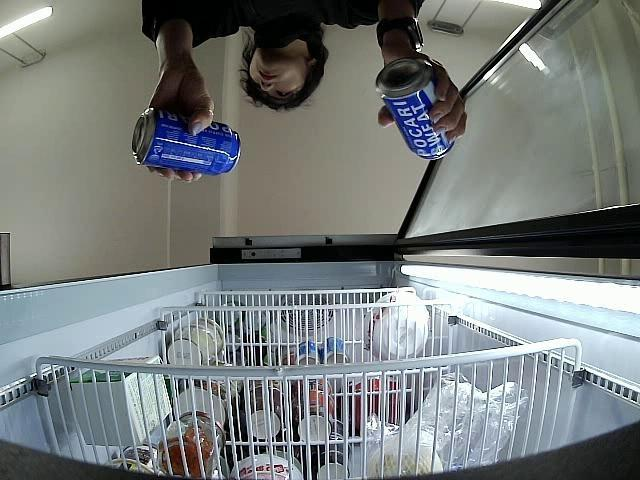13_pocariSweat: (380, 56, 452, 160), (130, 108, 240, 174)
